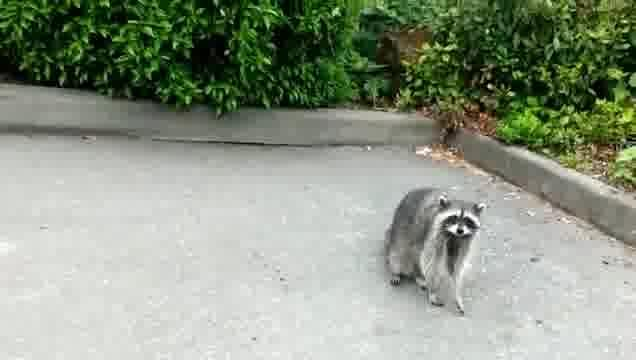raccoon: (381, 182, 488, 319)
